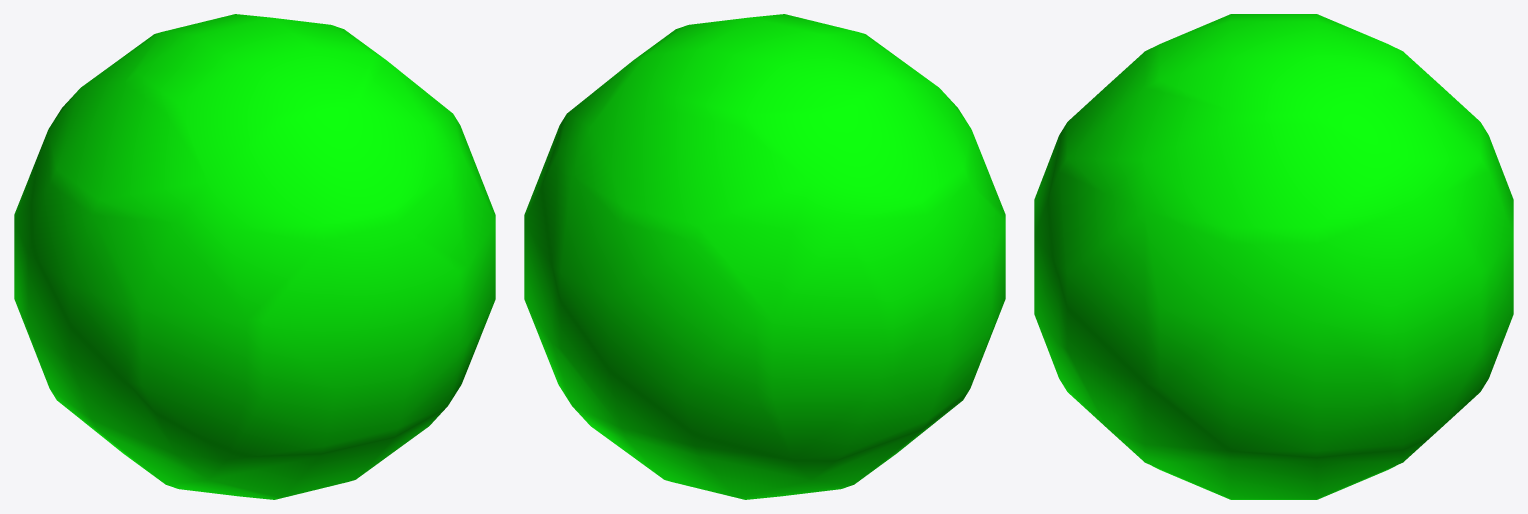
Rendered from resbutton.gltf.
3 views of the same model, side by side, from view 1: azimuth 30°, elevation 25°; view 2: azimuth 150°, elevation 25°; view 3: azimuth 270°, elevation 25° (orthographic).
Visible parts, largest first — view 1: Mball.001_Mesh.004; view 2: Mball.001_Mesh.004; view 3: Mball.001_Mesh.004.
Boxes of the visible parts, box(x1,y1,x2,y2) form: Mball.001_Mesh.004: box(14, 14, 495, 499); Mball.001_Mesh.004: box(524, 14, 1005, 499); Mball.001_Mesh.004: box(1034, 14, 1513, 499).
Bounding box in the file's own units: 2.23 × 2.23 × 2.23.
1 material, 1 textured.
